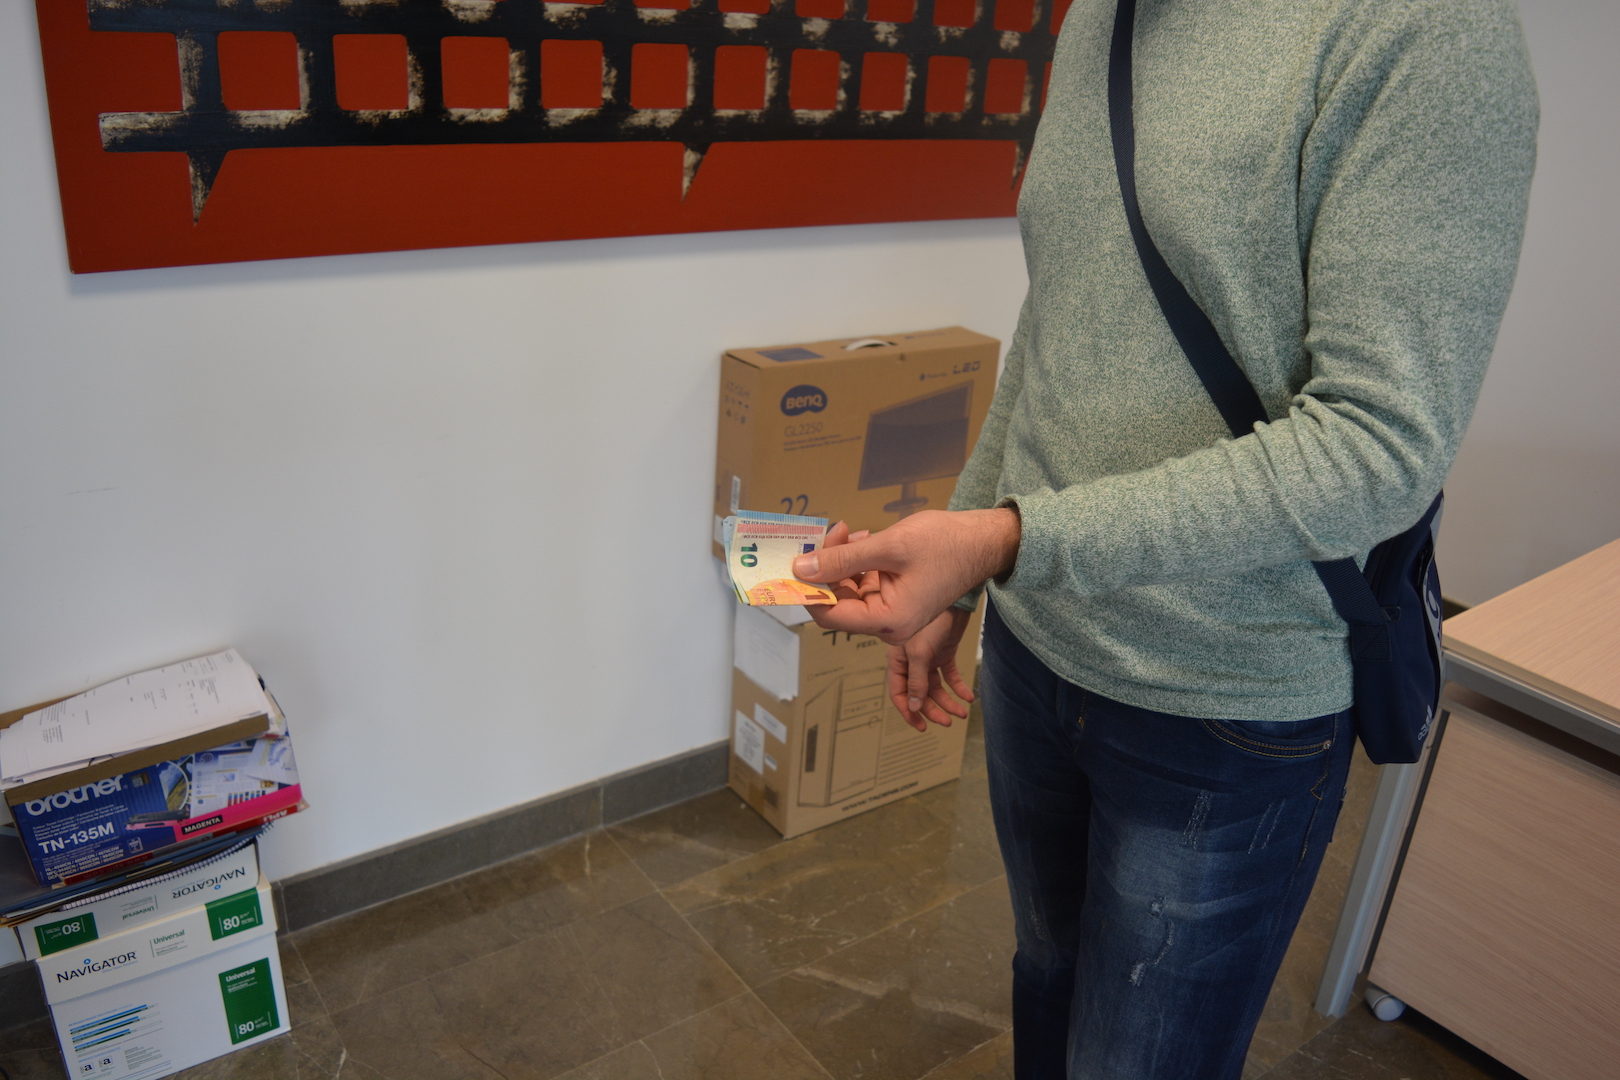billete: (714, 507, 840, 609)
